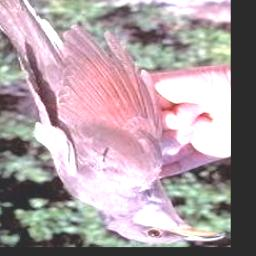Cuckoo: (0, 0, 223, 245)
